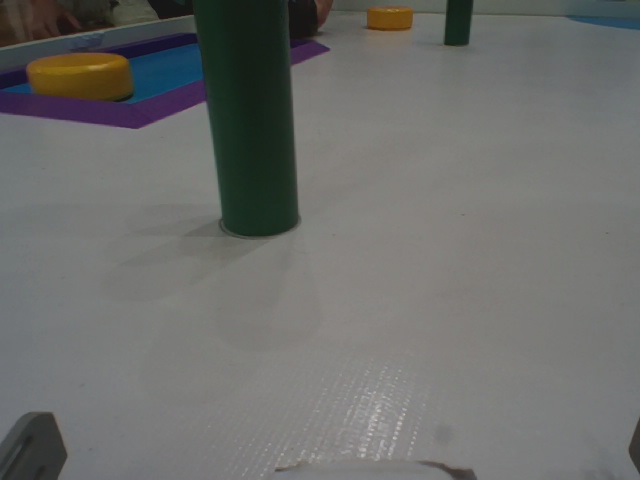kuang: (1, 25, 352, 140)
yellow: (24, 50, 144, 103), (342, 2, 427, 39)
zhuzi: (192, 1, 299, 235), (442, 1, 480, 55)
